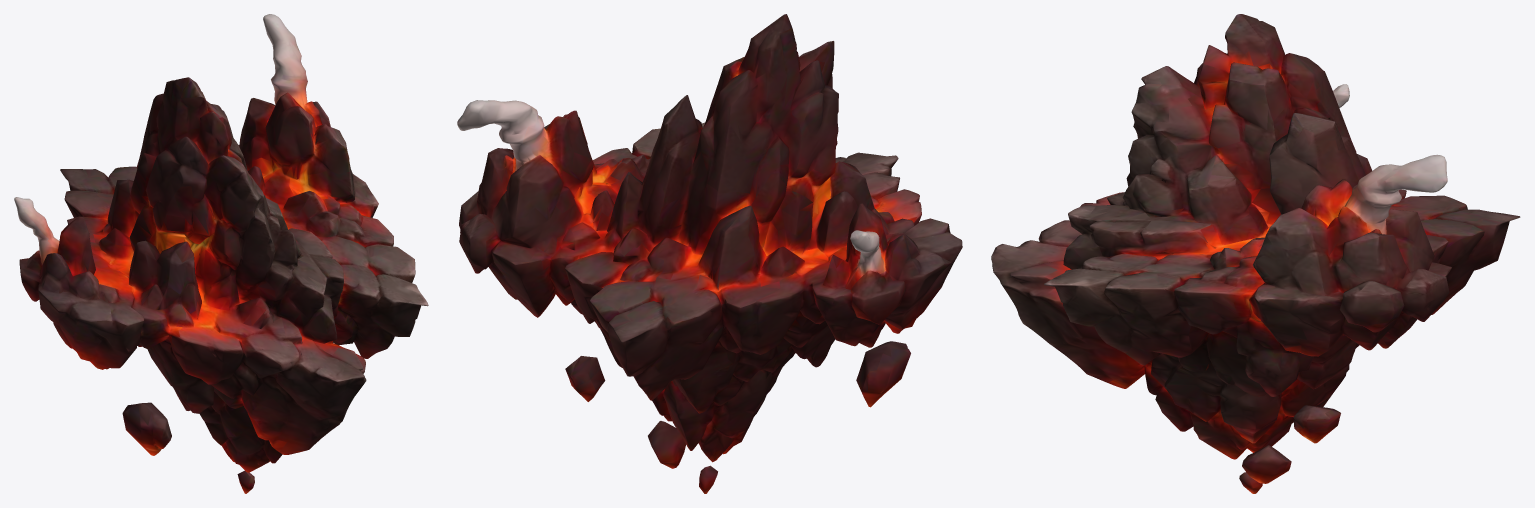
Rendered from R3_Island_Crag.fbx.
3 views of the same model, side by side, from view 1: azimuth 30°, elevation 25°; view 2: azimuth 150°, elevation 25°; view 3: azimuth 270°, elevation 25° (orthographic). The views are drawn at different scales.
Parts seen in each view (by area): view 1: R3_Island_Crag; view 2: R3_Island_Crag; view 3: R3_Island_Crag.
Part boxes in pixels (<box>): R3_Island_Crag: <box>14,14,428,493</box>; R3_Island_Crag: <box>457,14,962,493</box>; R3_Island_Crag: <box>991,14,1520,493</box>.
Bounding box in the file's own units: 1200 × 1400 × 1500.
1 material, 1 textured.
